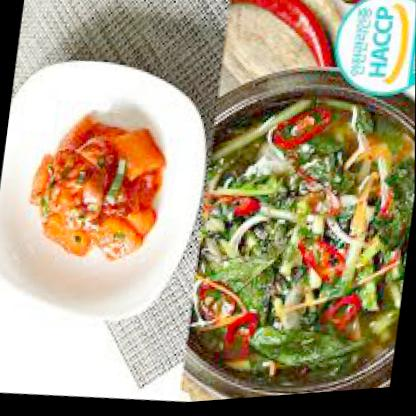radish Kimchi: (21, 106, 174, 273)
young radish Kimchi: (180, 92, 414, 402)
